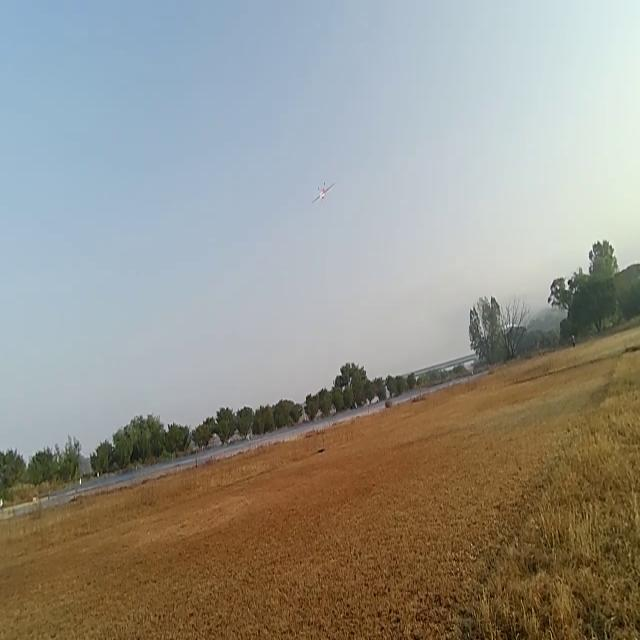iha: (310, 178, 336, 204)
